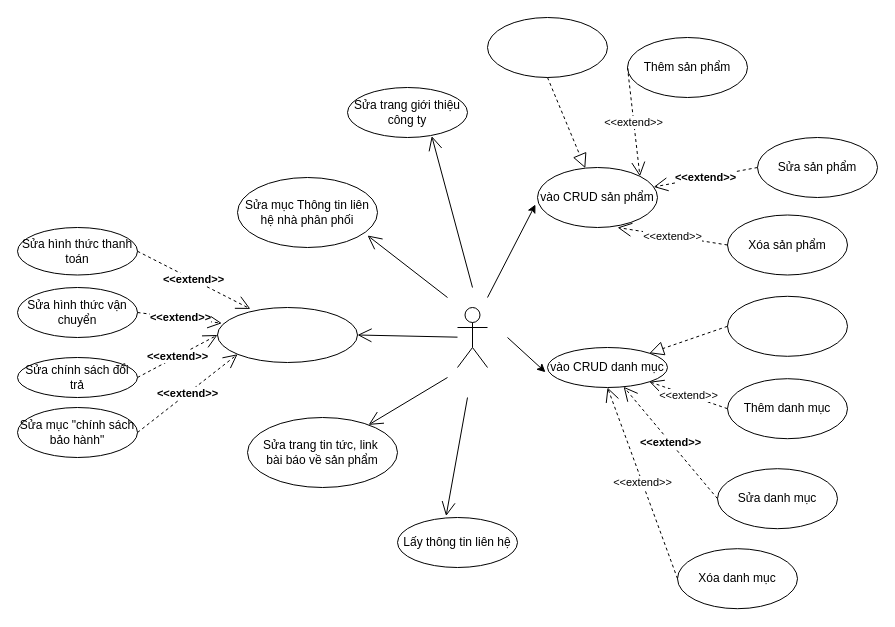
Some shapes in this 895 by 627 pixel diagram are drawn without their labels. The shapes that lost their labels are listed below. From the top down, each one's centre as x and y in pixels, then its label:
pixel 547 47: Tạo sản phẩm
pixel 287 334: Update mục "Thông tin khác"
pixel 472 337: Admin
pixel 787 325: Tạo danh mục
